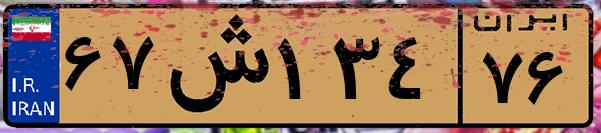1: (270, 28, 330, 110)
3: (330, 28, 385, 110)
4: (385, 28, 445, 110)
6: (57, 26, 110, 100), (525, 38, 570, 115)
7: (475, 38, 525, 113), (110, 28, 158, 98)
ش: (158, 12, 270, 120)
